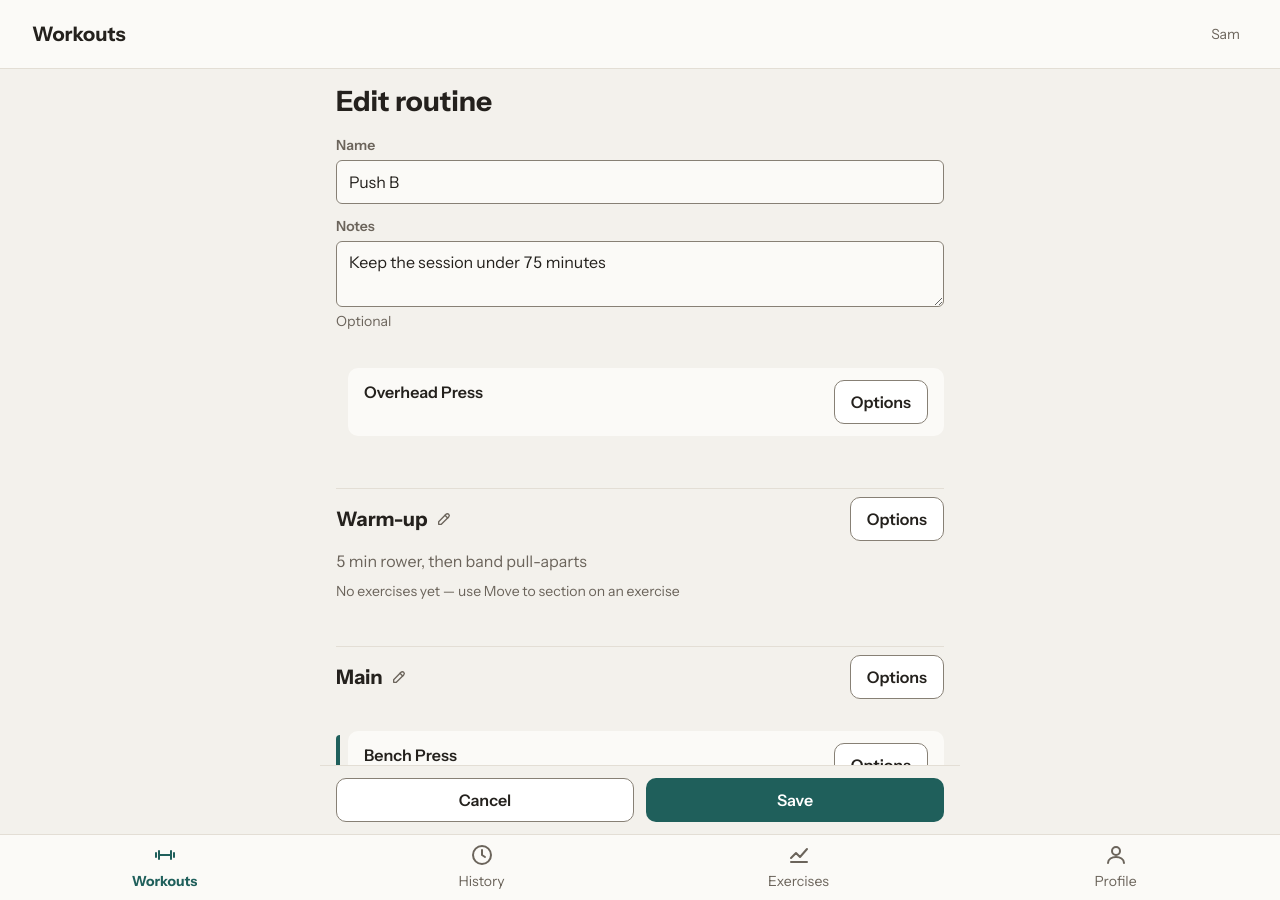
Test case: 10.3 AC16 — the section sheet › an invalid field keeps the sheet open with the app's message beside it
The width and height of the screenshot is (1280, 900).
Click the button "Main" at (371, 677), box [336, 655, 407, 699]
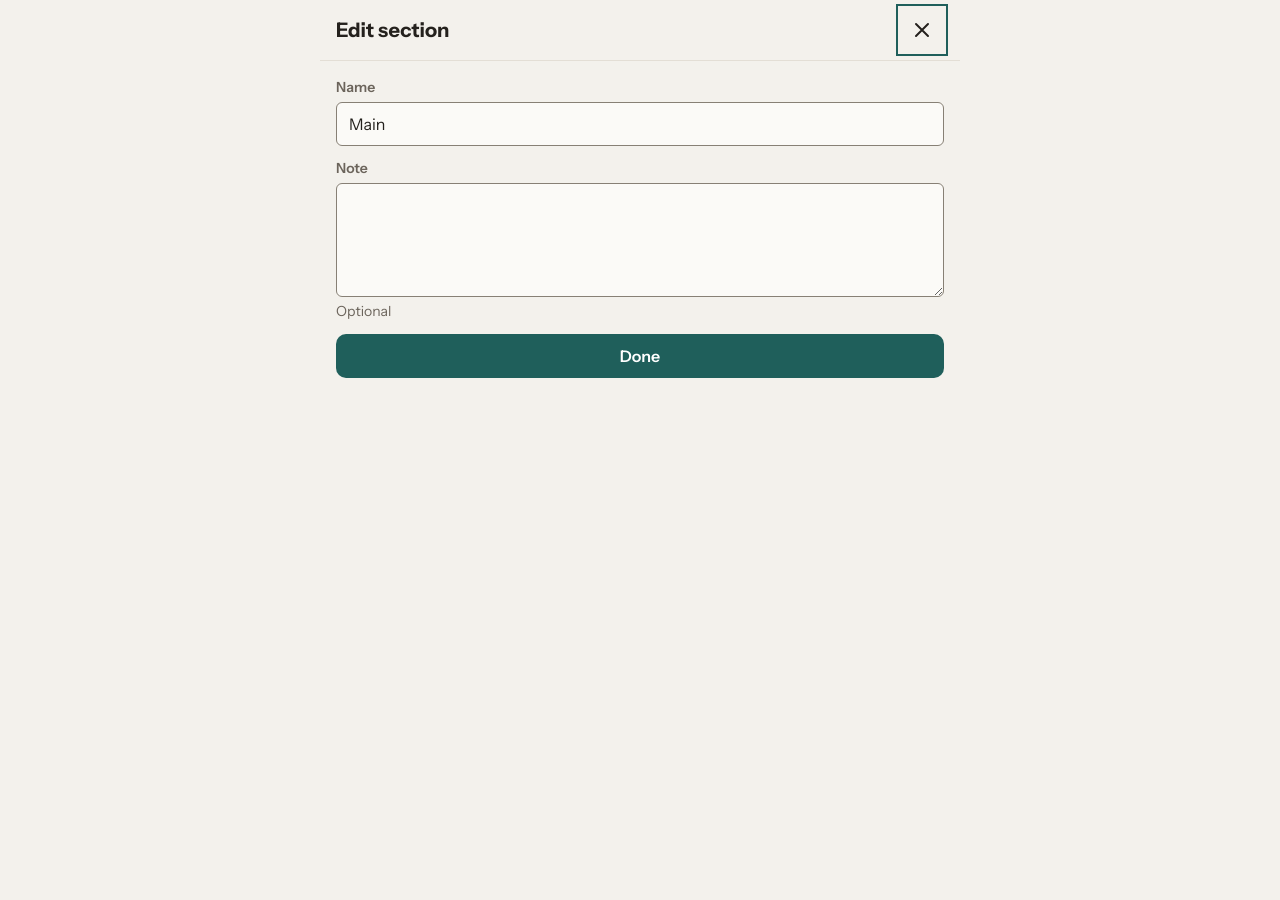
Clear the field labelled "Name" at (640, 124), box [336, 102, 944, 146]
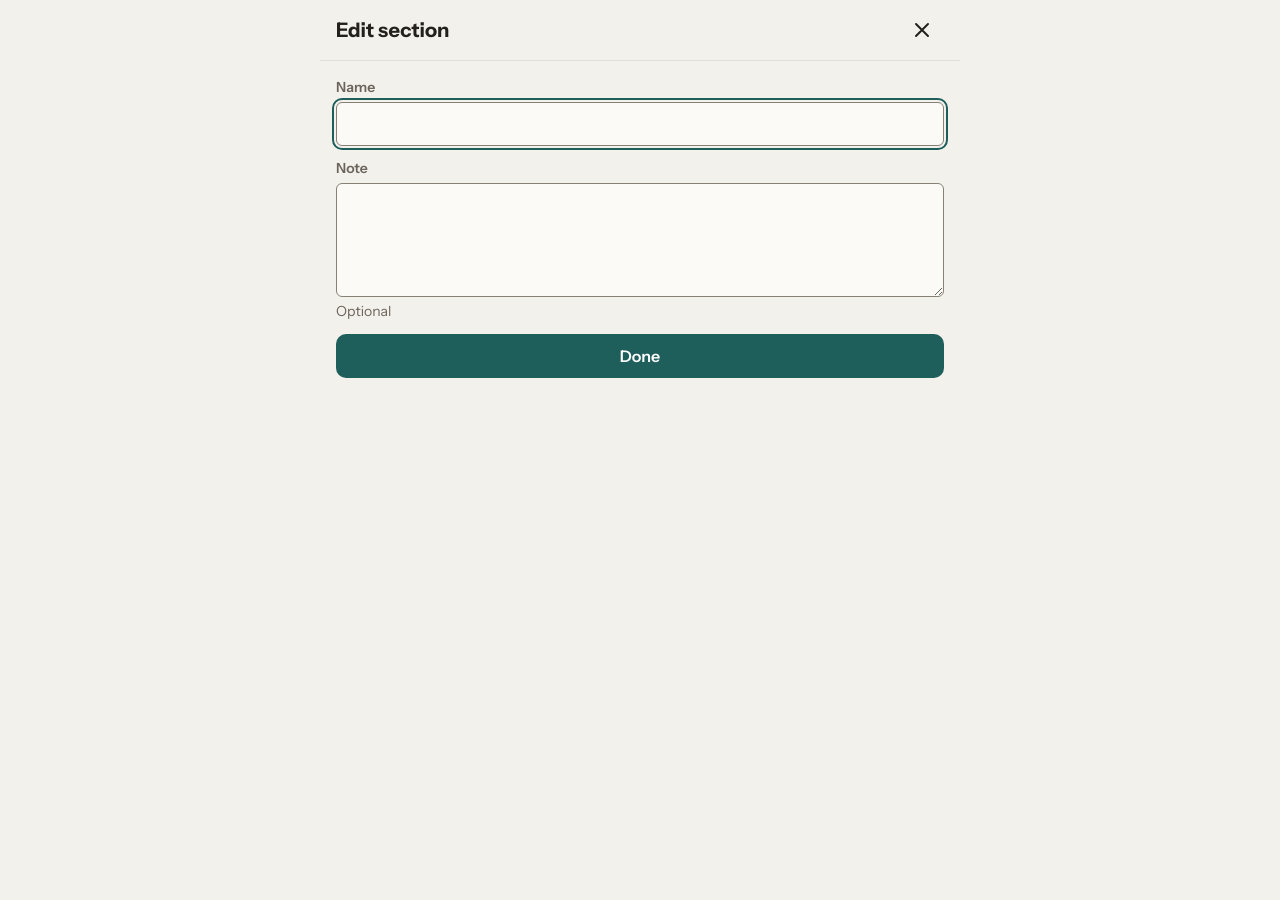
Click the button "Done" at (640, 356), box [336, 334, 944, 378]
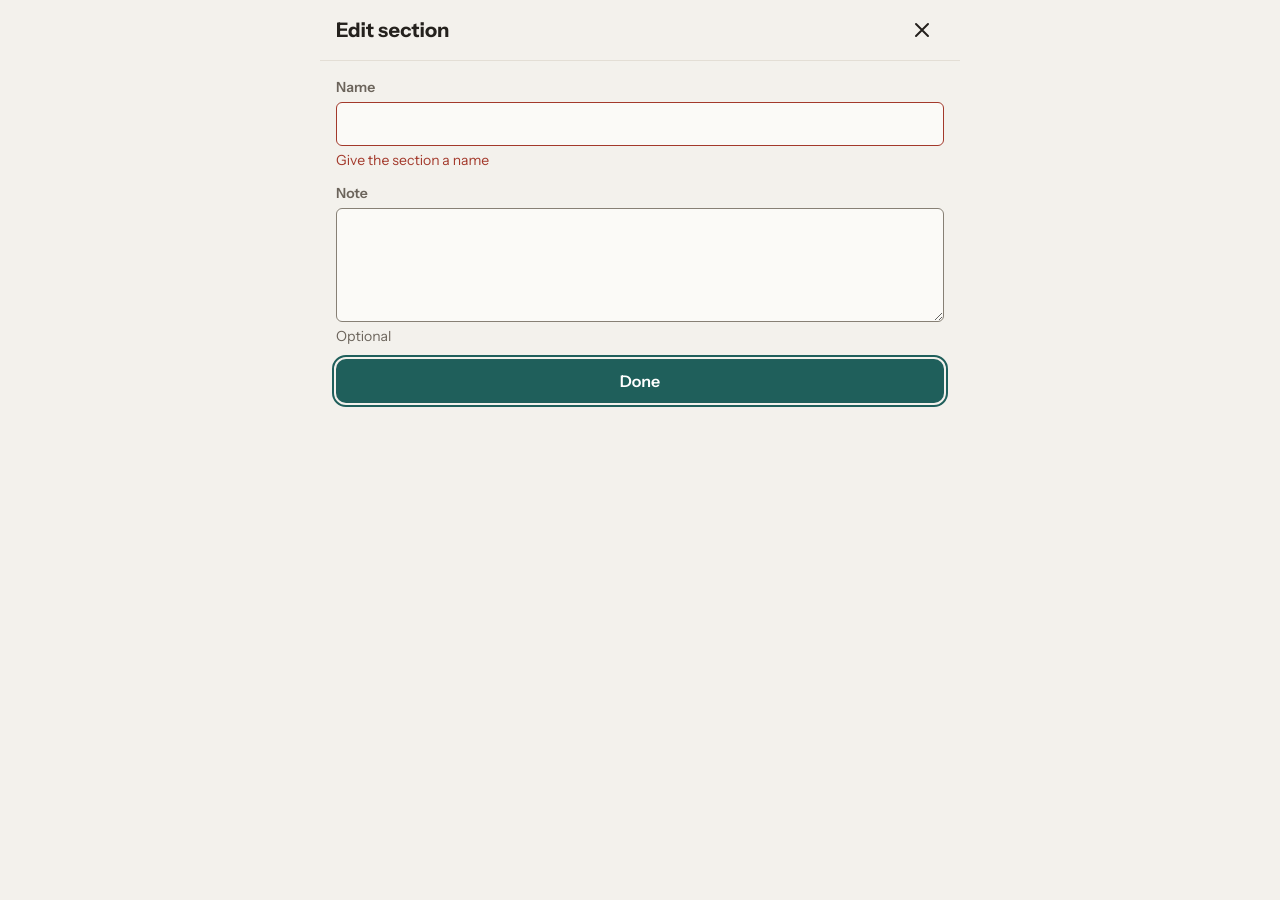
Result: the dialog "Edit section" is shown at [320, 0, 960, 899]
Result: the text "Give the section a name" is shown at [336, 151, 489, 169]
